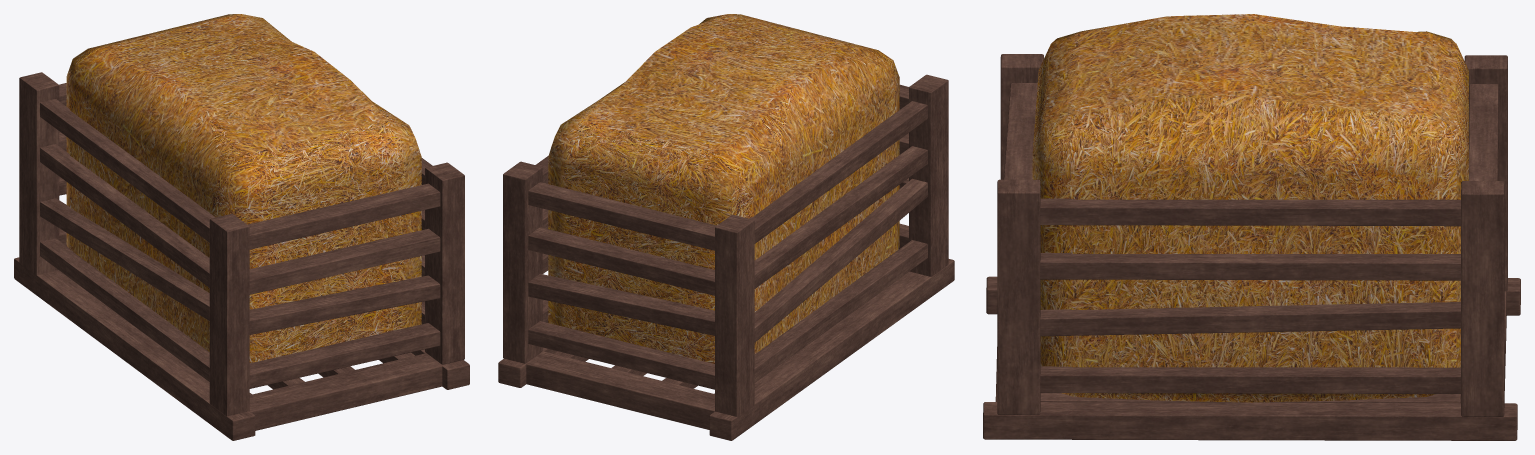
File: RC_Small_Building_05_Hay_Box.gltf
The picture shows the model from 3 angles, left to right: view 1: azimuth 30°, elevation 25°; view 2: azimuth 150°, elevation 25°; view 3: azimuth 270°, elevation 25°; orthographic projection. The views are drawn at different scales.
Parts seen in each view (by area): view 1: RC_Small_Building_05_Hay_Box(Clone); view 2: RC_Small_Building_05_Hay_Box(Clone); view 3: RC_Small_Building_05_Hay_Box(Clone).
Part boxes in pixels (x1,y1,x2,y2): RC_Small_Building_05_Hay_Box(Clone): [14, 14, 469, 440]; RC_Small_Building_05_Hay_Box(Clone): [498, 14, 954, 440]; RC_Small_Building_05_Hay_Box(Clone): [983, 14, 1520, 440].
Bounding box in the file's own units: 0.8545 × 0.8975 × 1.38.
Materials: 2 (2 with a texture image).
